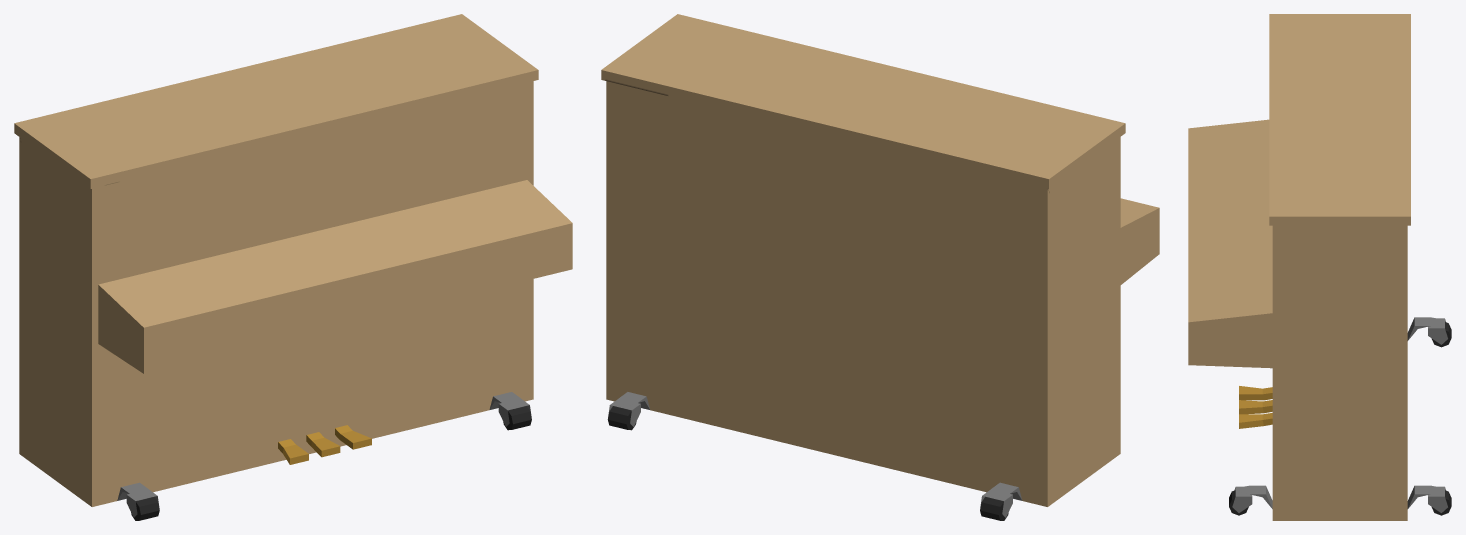
The model's file is Piano.fbx.
3 views of the same model, side by side, from view 1: azimuth 30°, elevation 25°; view 2: azimuth 150°, elevation 25°; view 3: azimuth 270°, elevation 25° (orthographic). The views are drawn at different scales.
Parts seen in each view (by area): view 1: Piano; view 2: Piano; view 3: Piano.
Boxes of the visible parts, x1,y1,x2,y2 form: Piano: [14, 14, 572, 520]; Piano: [601, 14, 1159, 520]; Piano: [1188, 14, 1451, 520].
Size of the model in its own units: 142 by 102 by 78.
